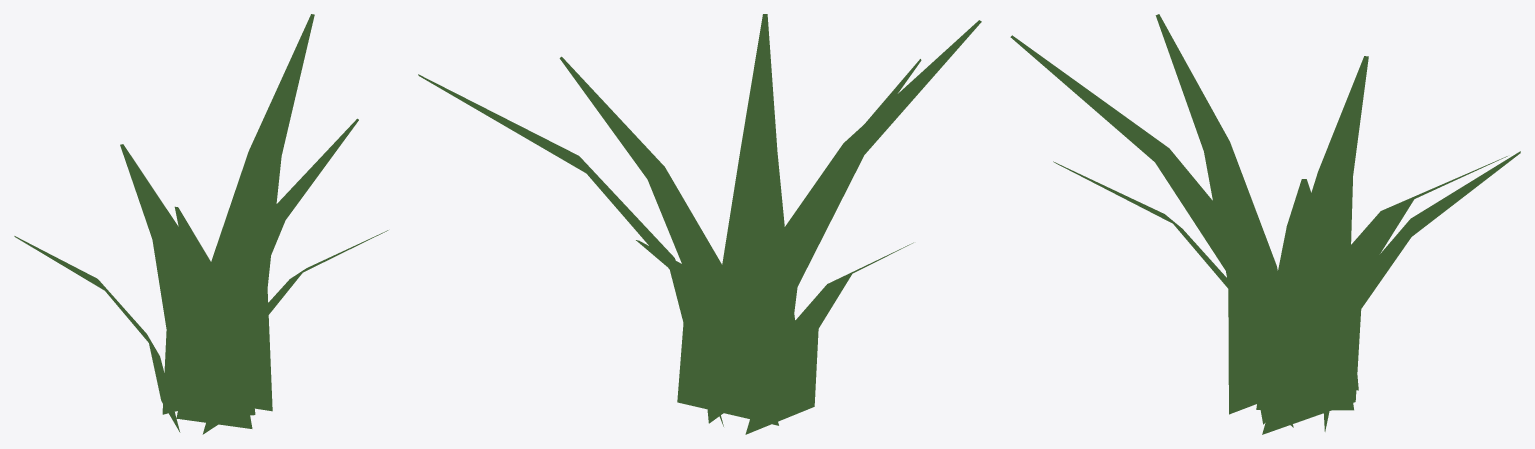
File: grass-tuft.glb
3 views of the same model, side by side, from view 1: azimuth 30°, elevation 25°; view 2: azimuth 150°, elevation 25°; view 3: azimuth 270°, elevation 25° (orthographic). The views are drawn at different scales.
Visible parts, largest first — view 1: grass-tuft; view 2: grass-tuft; view 3: grass-tuft.
Boxes of the visible parts, box(x1,y1,x2,y2) form: grass-tuft: box(14, 14, 388, 434); grass-tuft: box(418, 14, 981, 434); grass-tuft: box(1010, 14, 1520, 434).
Size of the model in its own units: 0.4277 by 0.3335 by 0.4237.
